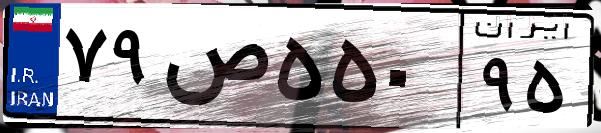0: (385, 28, 445, 110)
5: (270, 28, 330, 110), (330, 28, 385, 110), (525, 38, 570, 115)
7: (57, 26, 110, 100)
9: (475, 38, 525, 113), (110, 28, 158, 98)
ص: (158, 20, 270, 120)
